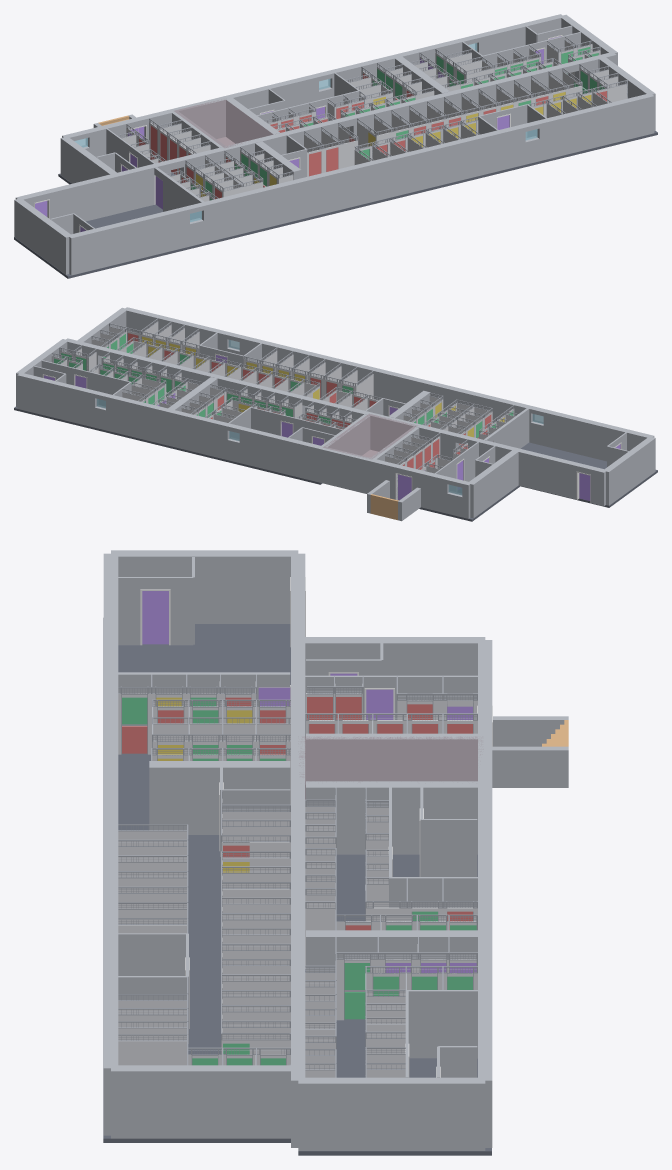
File: kladovka78-plan.glb
The picture shows the model from 3 angles, top to bottom: view 1: azimuth 30°, elevation 25°; view 2: azimuth 150°, elevation 25°; view 3: azimuth 270°, elevation 25°; orthographic projection. The views are drawn at different scales.
Visible parts, largest first — view 1: structural_0025_Наружная стена, frame, structural_0021_Наружная стена, structural_0029_Наружная стена, structural_0037_Продольная капитальная стена, mesh, structural_0012_Наружная стена, structural_0041_Продольная капитальная стена, Подъезд №3, structural_0030_Наружная стена • запад, structural_0039_Продольная капитальная стена, floor_0000_Пол • нижнее крыло (+16 smaller); view 2: frame, structural_0012_Наружная стена, structural_0025_Наружная стена, structural_0016_Наружная стена, structural_0021_Наружная стена, structural_0020_Наружная стена, mesh, structural_0037_Продольная капитальная стена, structural_0039_Продольная капитальная стена, structural_0041_Продольная капитальная стена, Подъезд №3, structural_0030_Наружная стена • запад (+23 smaller); view 3: frame, structural_0032_Наружная стена • восток верхнего крыла, structural_0033_Наружная стена • восток нижнего крыла, floor_0000_Пол • нижнее крыло, partition_Перегородка (×10), mesh, structural_0030_Наружная стена • запад, structural_0044_Капитальная стена • средний блок, Подъезд №3, structural_0045_Капитальная стена • граница ядра, structural_0047_Капитальная стена • нижний проход, floor_0680_Зона у окна • назначение по экспликации (+42 smaller).
Boxes of the visible parts, bbox=[...] form: structural_0025_Наружная стена: bbox=[200, 124, 525, 242]; frame: bbox=[117, 36, 627, 200]; structural_0021_Наружная стена: bbox=[68, 206, 189, 275]; structural_0029_Наружная стена: bbox=[536, 93, 654, 160]; structural_0037_Продольная капитальная стена: bbox=[45, 160, 170, 221]; mesh: bbox=[120, 39, 625, 198]; structural_0012_Наружная стена: bbox=[142, 74, 318, 142]; structural_0041_Продольная капитальная стена: bbox=[349, 64, 566, 138]; Подъезд №3: bbox=[174, 99, 273, 147]; structural_0030_Наружная стена • запад: bbox=[14, 198, 71, 274]; structural_0039_Продольная капитальная стена: bbox=[180, 119, 340, 176]; floor_0000_Пол • нижнее крыло: bbox=[14, 131, 657, 278]; frame: bbox=[52, 318, 517, 470]; structural_0012_Наружная стена: bbox=[239, 427, 399, 500]; structural_0025_Наружная стена: bbox=[239, 335, 534, 442]; structural_0016_Наружная стена: bbox=[106, 394, 230, 459]; structural_0021_Наружная стена: bbox=[543, 409, 654, 461]; structural_0020_Наружная стена: bbox=[17, 373, 98, 427]; mesh: bbox=[54, 320, 516, 469]; structural_0037_Продольная капитальная стена: bbox=[467, 437, 580, 499]; structural_0039_Продольная капитальная стена: bbox=[314, 399, 459, 460]; structural_0041_Продольная капитальная стена: bbox=[109, 349, 305, 417]; Подъезд №3: bbox=[323, 413, 417, 459]; structural_0030_Наружная стена • запад: bbox=[603, 437, 655, 505]; frame: bbox=[118, 674, 477, 1077]; structural_0032_Наружная стена • восток верхнего крыла: bbox=[298, 1077, 485, 1150]; structural_0033_Наружная стена • восток нижнего крыла: bbox=[111, 1065, 298, 1138]; floor_0000_Пол • нижнее крыло: bbox=[103, 618, 290, 1142]; partition_Перегородка (×10): bbox=[118, 831, 186, 1065]; mesh: bbox=[118, 688, 476, 1069]; structural_0030_Наружная стена • запад: bbox=[111, 550, 298, 623]; structural_0044_Капитальная стена • средний блок: bbox=[306, 733, 478, 781]; Подъезд №3: bbox=[299, 736, 483, 799]; structural_0045_Капитальная стена • граница ядра: bbox=[306, 781, 477, 854]; structural_0047_Капитальная стена • нижний проход: bbox=[149, 761, 290, 834]; floor_0680_Зона у окна • назначение по экспликации: bbox=[119, 624, 289, 672].
Bounding box in the file's own units: 42.53 × 2.66 × 15.68.
